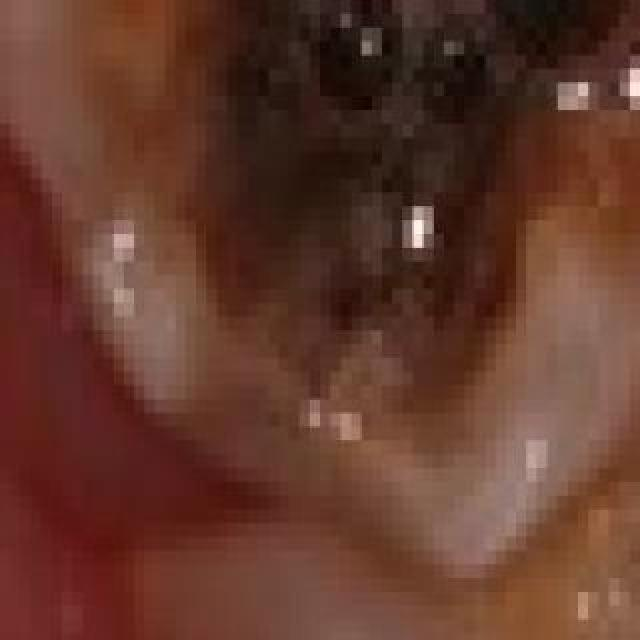calculus: (72, 96, 640, 640)
cavities: (10, 12, 640, 564)
